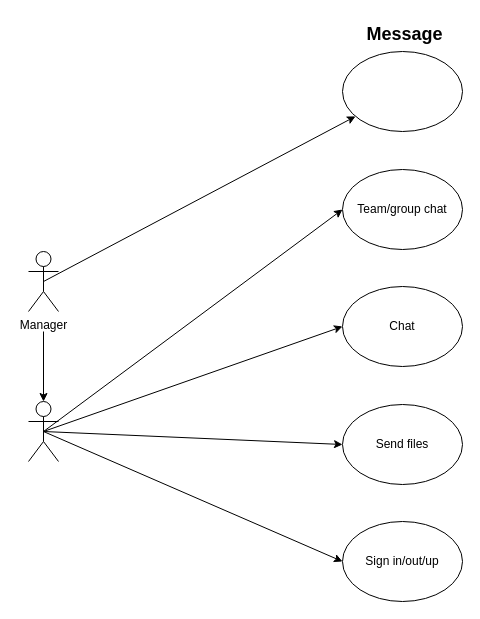
This 480x619 diagram has some shape labels left out. The centre of each missing label's shape, as x and y in pixels:
"Employee" goes at pixel 43 431.
"Manages Channels" goes at pixel 402 91.
